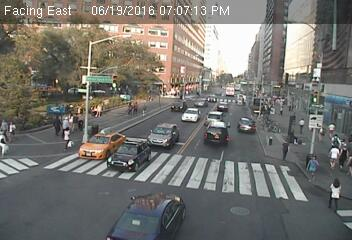neg: (256, 102, 271, 122), (201, 68, 216, 88), (238, 115, 250, 131), (235, 93, 246, 107), (156, 93, 166, 107), (174, 101, 183, 114), (266, 134, 274, 145), (169, 84, 174, 90)
pos: (321, 175, 349, 212), (303, 154, 326, 183), (275, 137, 296, 165), (2, 119, 21, 144), (325, 144, 344, 168), (335, 143, 351, 171), (58, 127, 76, 150), (49, 116, 64, 137), (64, 112, 79, 132), (294, 117, 308, 136), (325, 121, 339, 139), (316, 125, 328, 142), (343, 152, 351, 174), (331, 131, 342, 146), (93, 101, 104, 116), (132, 100, 142, 114), (124, 102, 134, 115), (61, 115, 70, 127), (278, 105, 285, 115), (340, 137, 346, 146)
